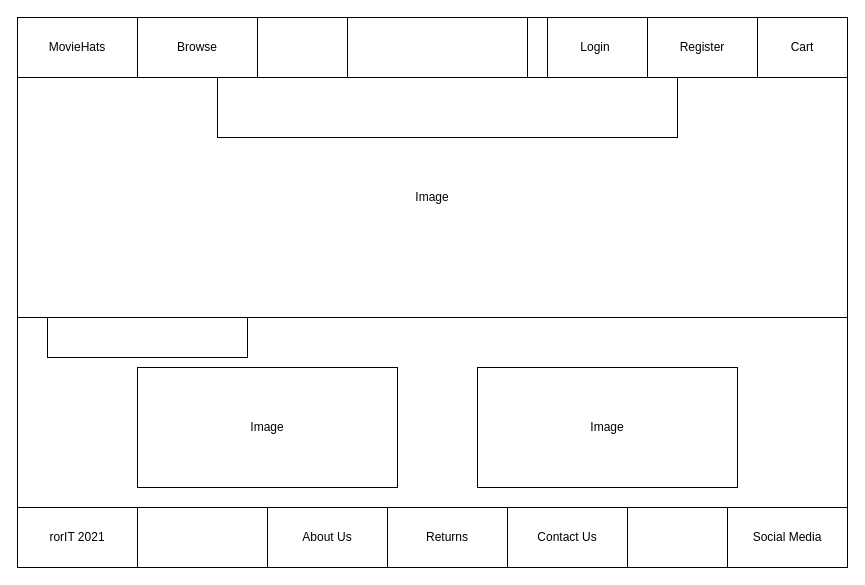
The diagram is 865 pixels wide and 585 high, and some of its shapes have lost their labels. The centre of each missing label's shape, as x and y in pixels:
Most Popular: point 147,337
Search and Enter: point 437,47
Welcome message: point 447,107
